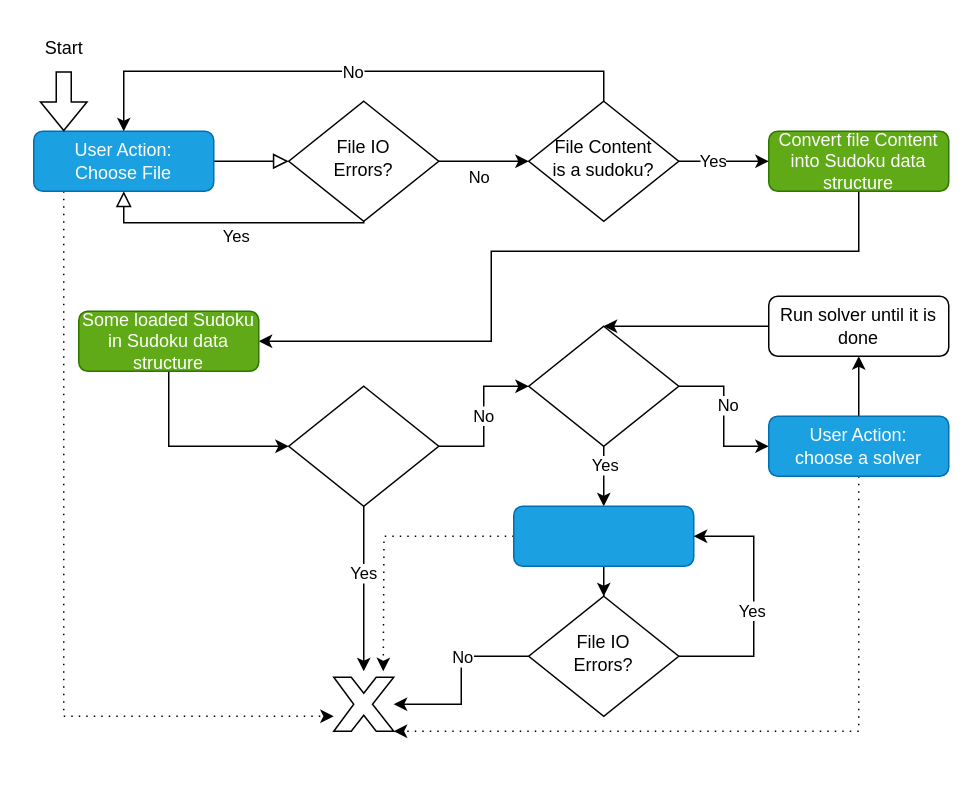
The diagram is 975 pixels wide and 788 high, and some of its shapes have lost their labels. Here are the shapes that lost their labels. From the top down, the centre of each, then its label:
At (603,385): "Sudoku is solved".
At (363,445): "Logical Sudoku Errors?".
At (603,535): "User Action: Save sudoku".
At (363,703): "End Program".
